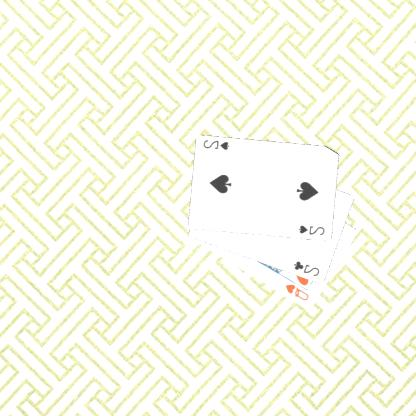2C: (293, 258, 323, 278)
2S: (297, 222, 328, 236), (202, 137, 233, 151)
QH: (284, 281, 312, 302)
